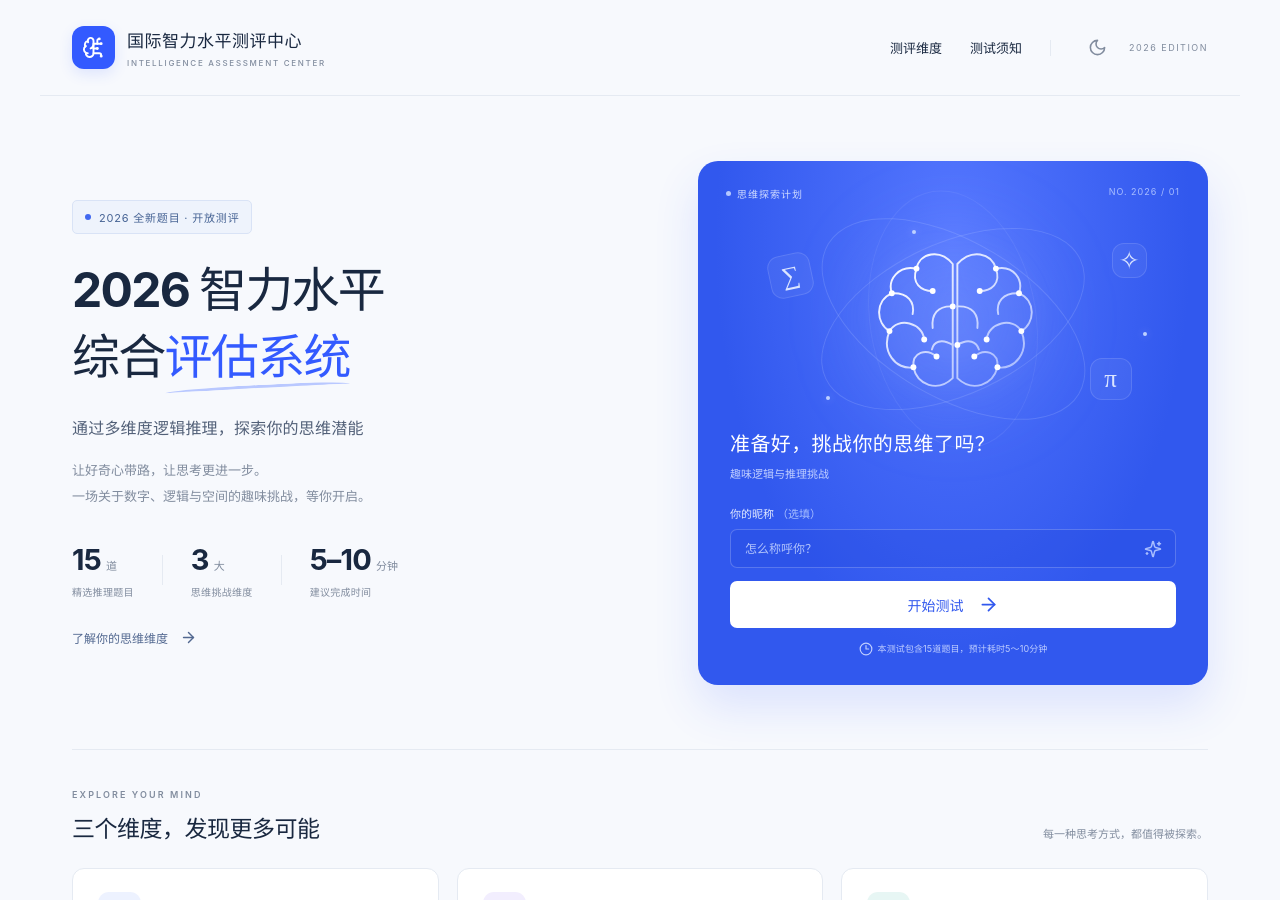
Scenario: 完整答题体验 › 昵称显示为纯文本，深色偏好保存，答案不进入localStorage
In the field labelled "你的昵称 （选填）": x=953, y=548 730,529 -> 1176,568, type "小明<script>"
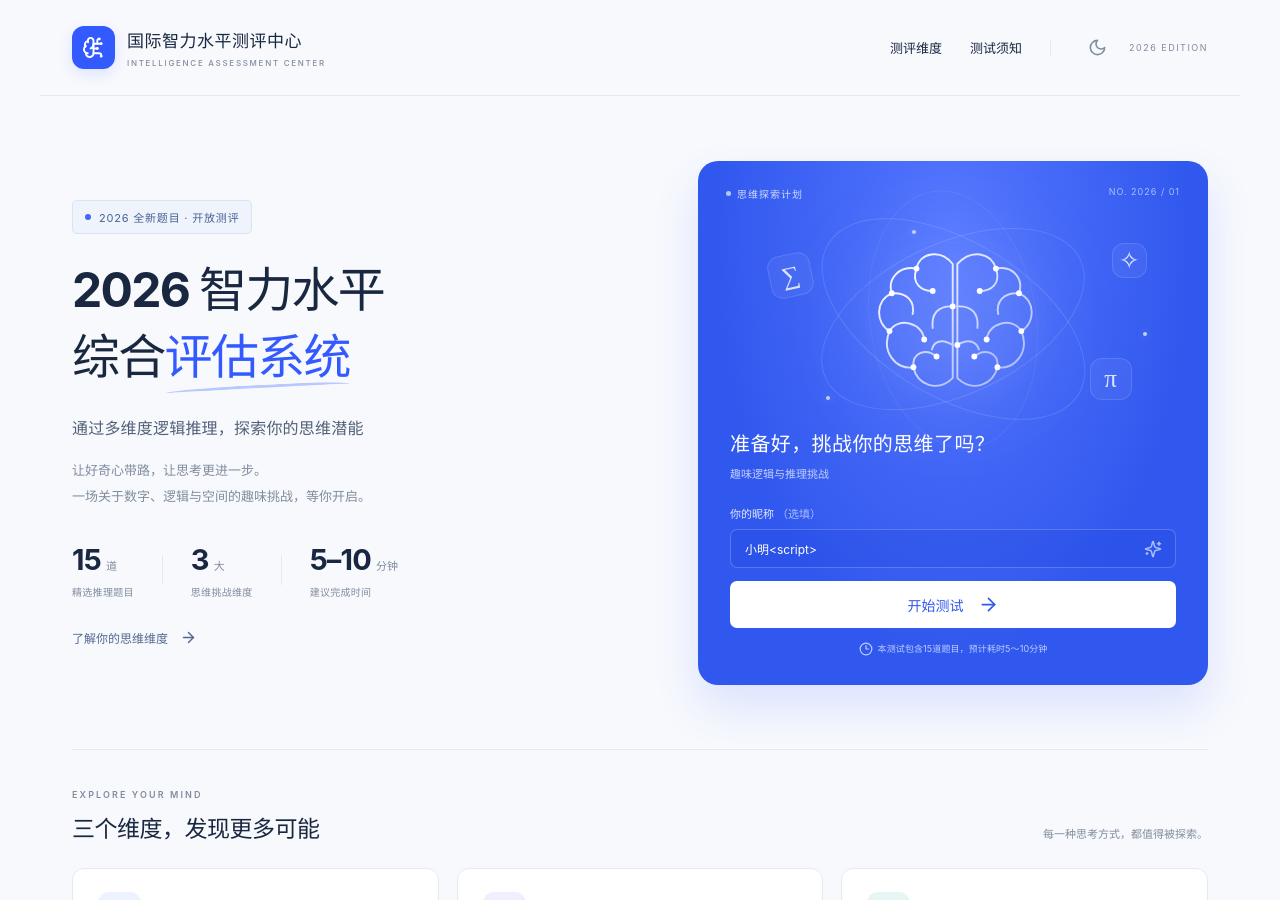
Click the button named "切换深色模式": x=1097, y=48 1079,30 -> 1115,66
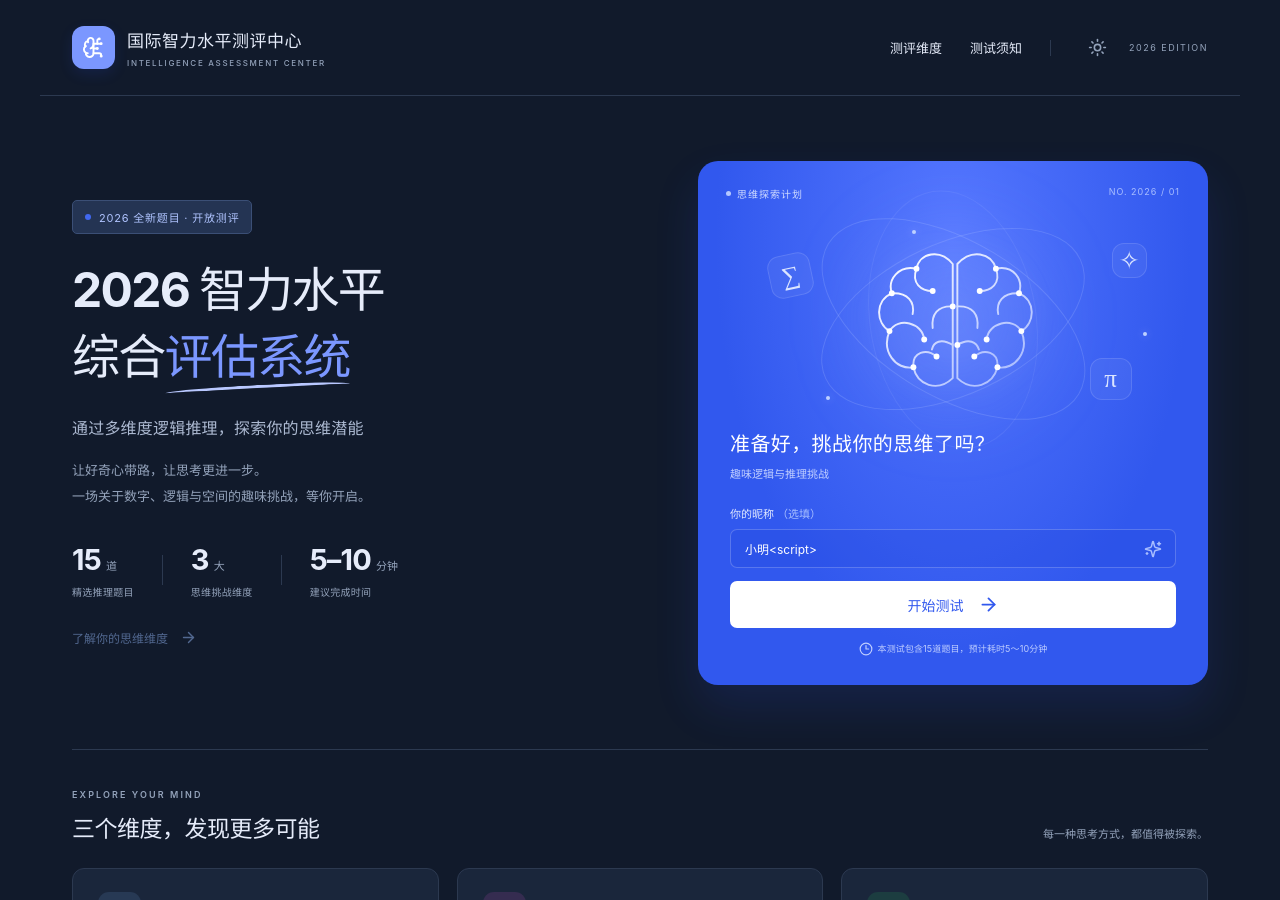
Click the button "开始测试": x=953, y=604 730,581 -> 1176,628
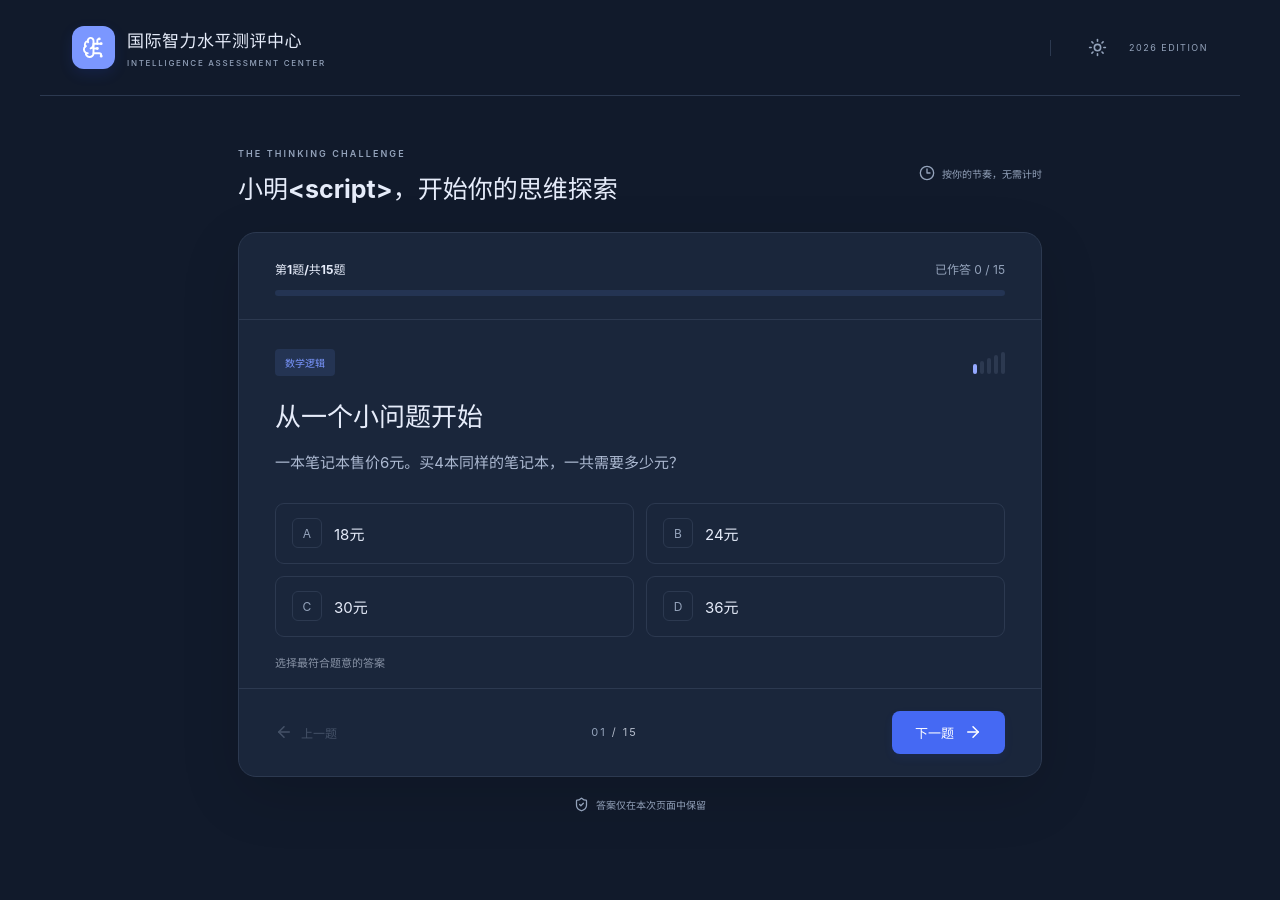
Expected: the heading "小明<script>，开始你的思维探索" is shown, 238,169 -> 618,205
